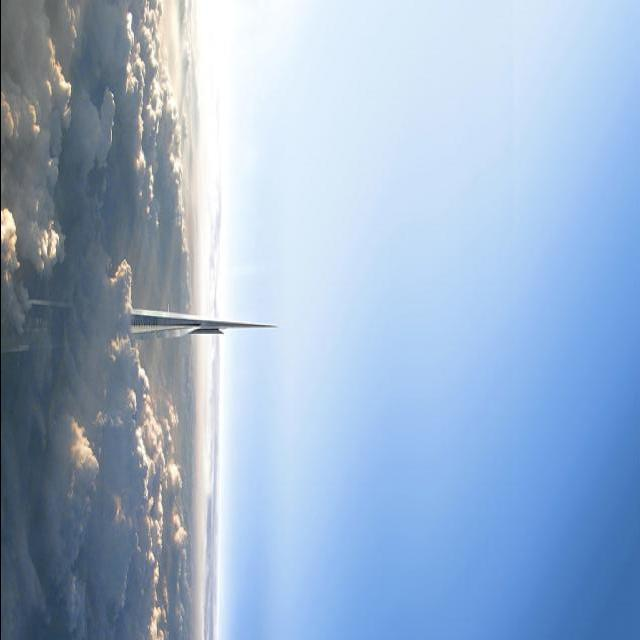missile: (122, 312, 278, 330)
